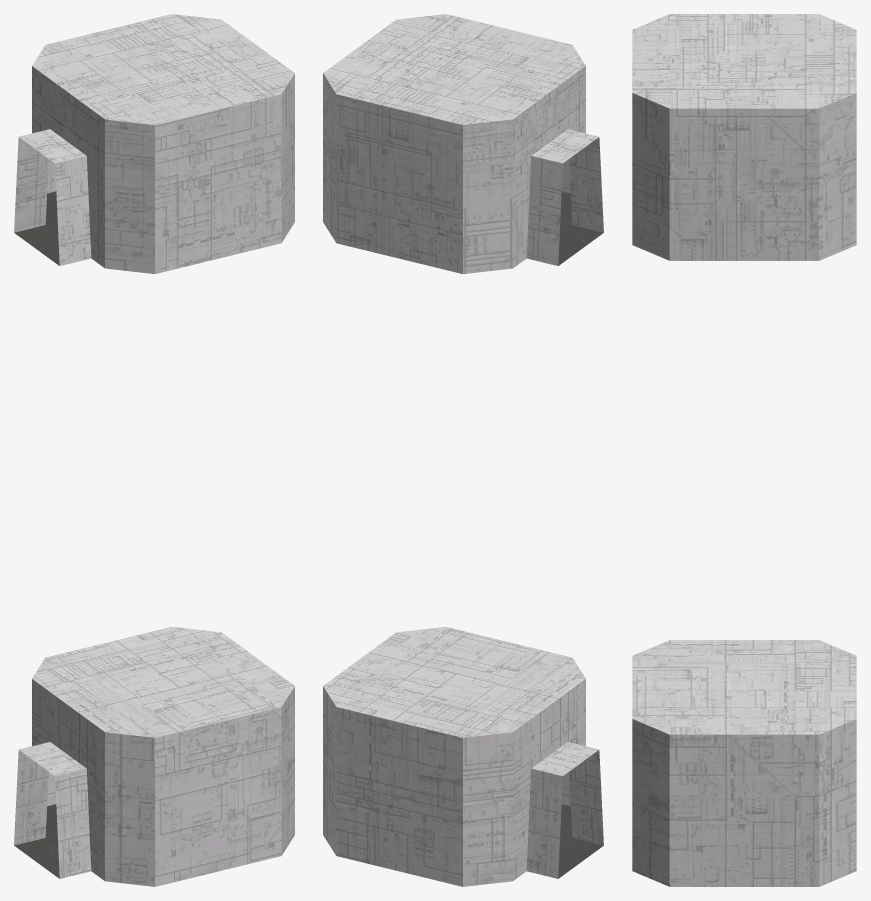
Rendered from thm_spc_star_destroyer_s01_r39_elevator02_mesh_r39.fbx.
The picture shows the model from 3 angles, left to right: view 1: azimuth 30°, elevation 25°; view 2: azimuth 150°, elevation 25°; view 3: azimuth 270°, elevation 25°; orthographic projection. The views are drawn at different scales.
Parts seen in each view (by area): view 1: mesh_node; view 2: mesh_node; view 3: mesh_node.
Part boxes in pixels (x1=…): mesh_node: x1=14, y1=14, x2=294, y2=886; mesh_node: x1=323, y1=14, x2=603, y2=886; mesh_node: x1=632, y1=14, x2=856, y2=886.
Bounding box in the file's own units: 7 × 23 × 6.
Materials: 2 (2 with a texture image).
